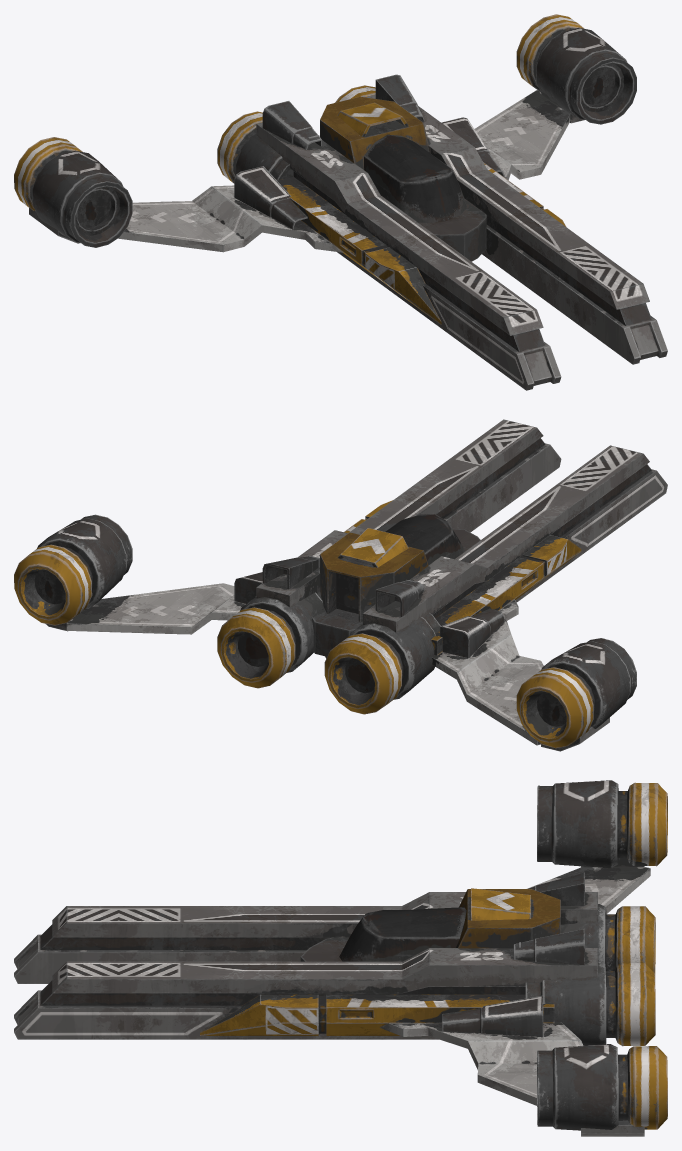
File: qs_executioner.glb
3 renders of one model, top to bottom at view 1: azimuth 30°, elevation 25°; view 2: azimuth 150°, elevation 25°; view 3: azimuth 270°, elevation 25°, orthographic. The views are drawn at different scales.
Visible parts, largest first — view 1: Executioner; view 2: Executioner; view 3: Executioner.
Part boxes in pixels (left/top/right/bottom): Executioner: left=14, top=14, right=667, bottom=390; Executioner: left=14, top=419, right=667, bottom=751; Executioner: left=14, top=780, right=667, bottom=1136.
Bounding box in the file's own units: 10.02 × 1.85 × 9.2.
Materials: 1 (1 with a texture image).
